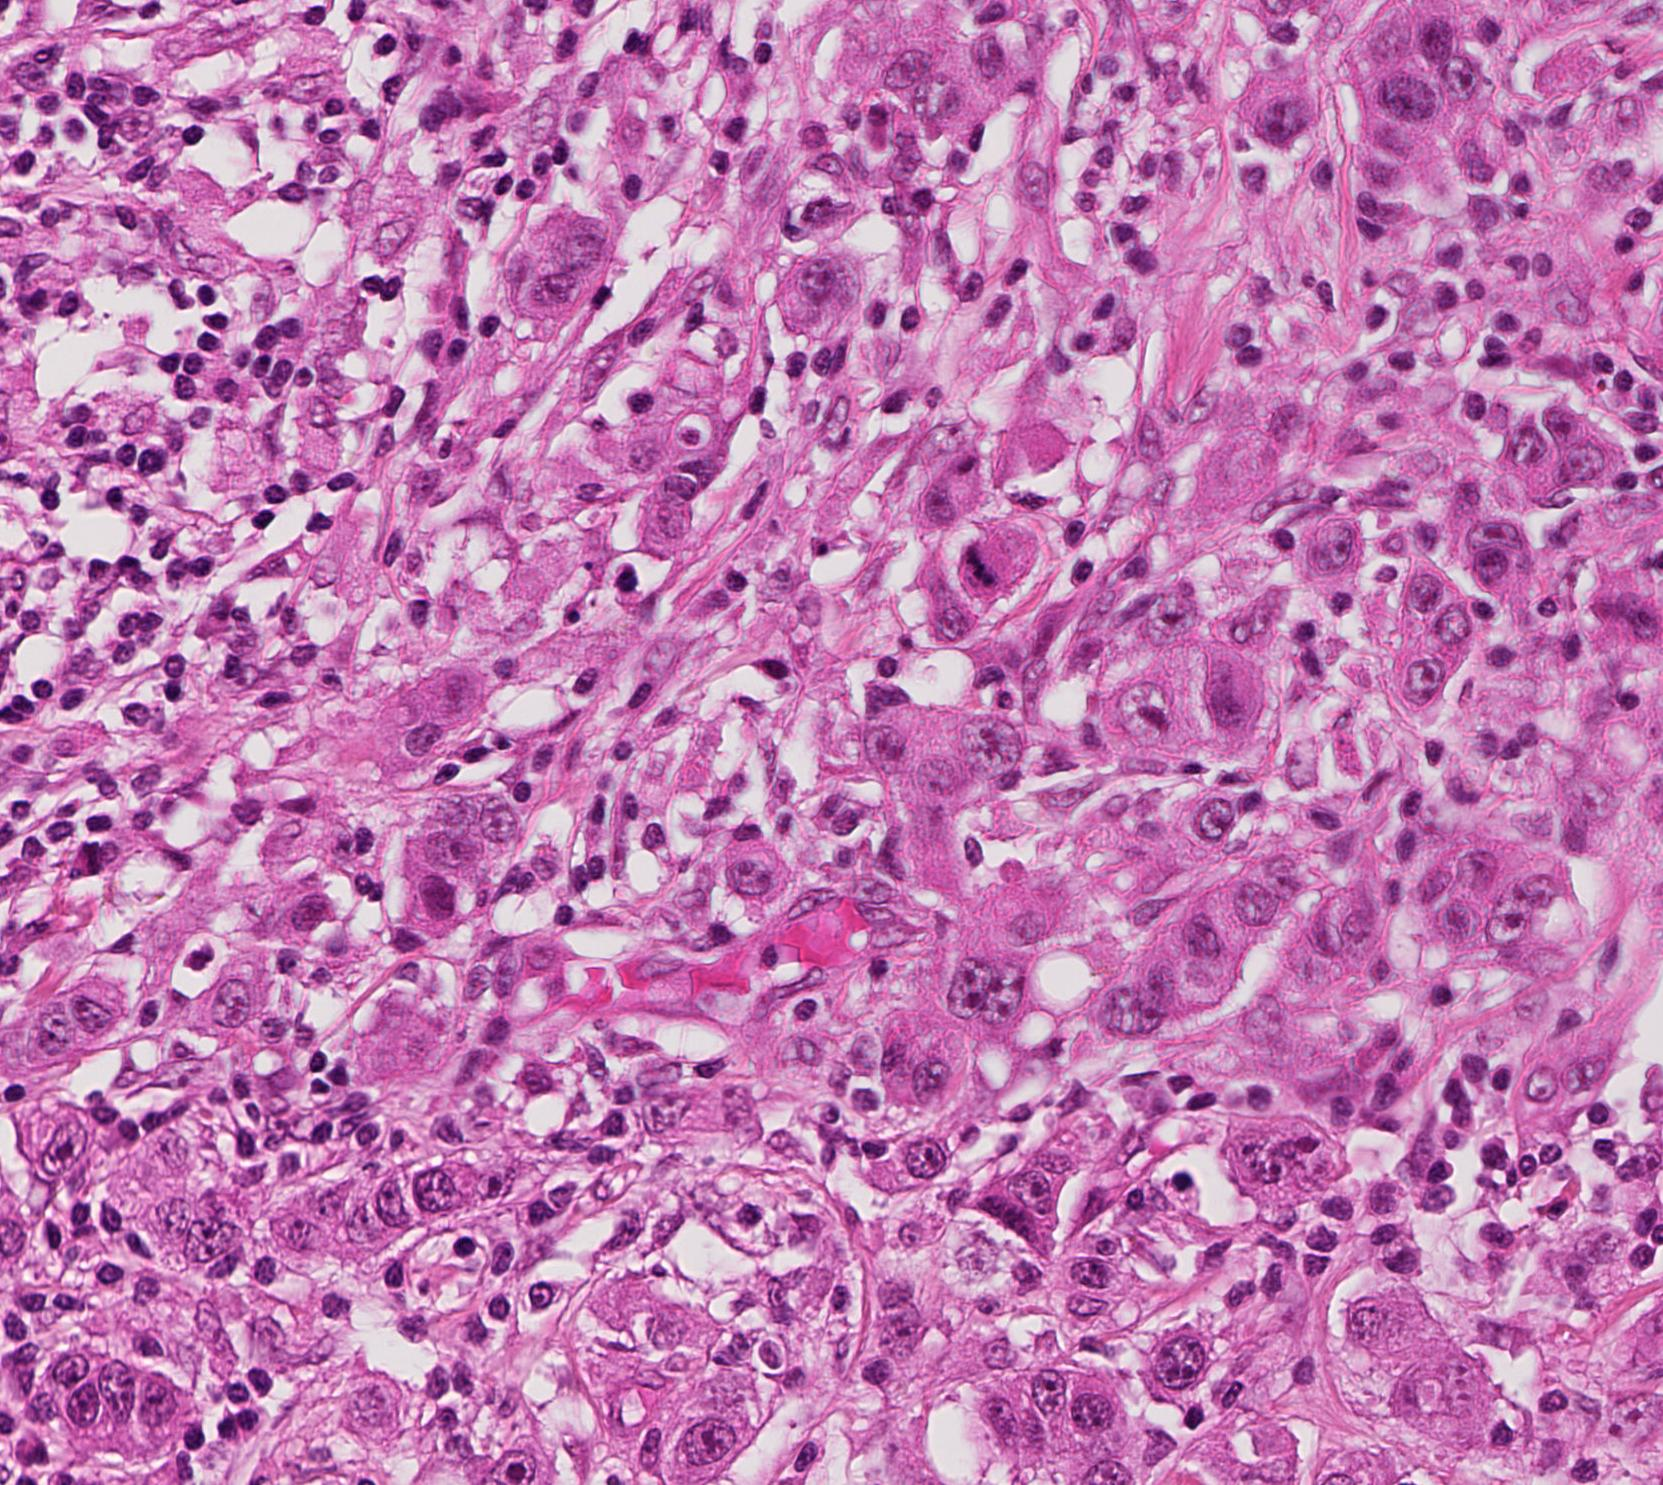mitosis: (950, 538, 1011, 598)
